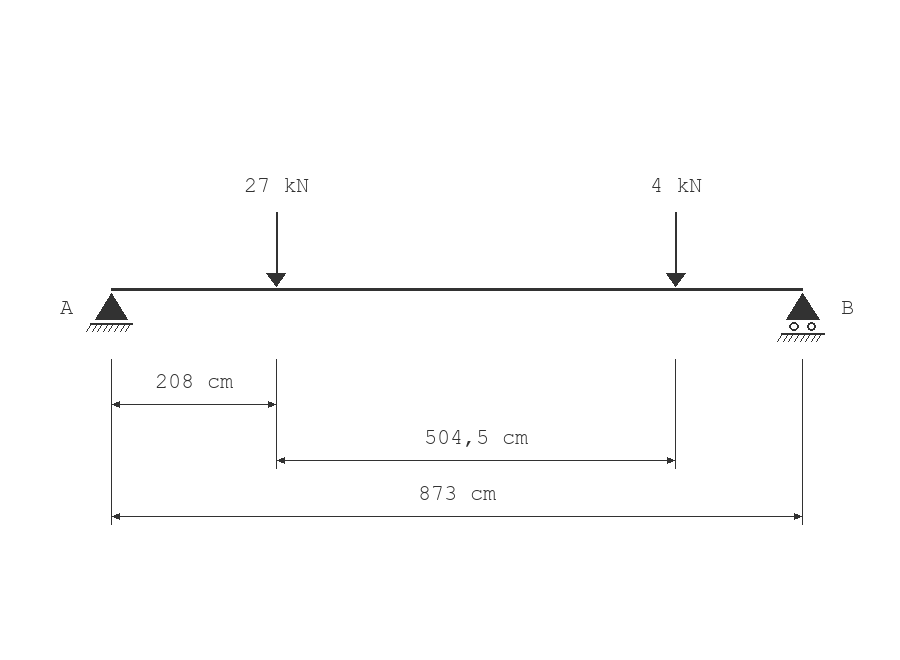pin_support: (86, 293, 133, 332)
point_load: (266, 212, 286, 287), (666, 212, 686, 287)
roller_support: (777, 293, 825, 342)
